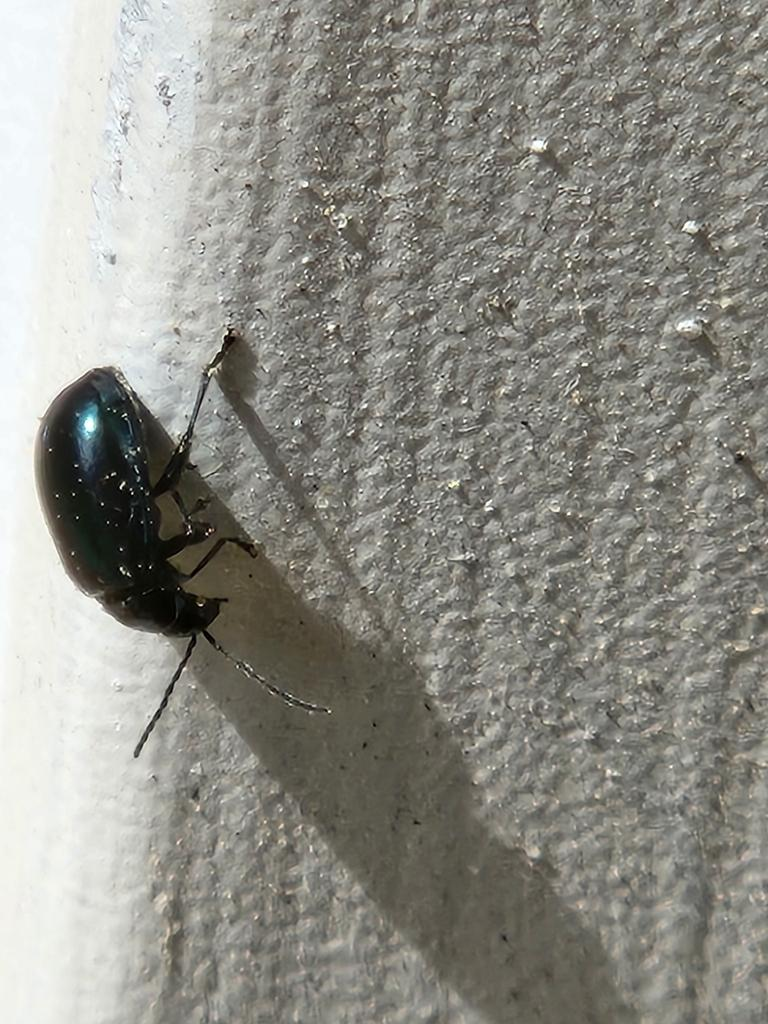flea_beetle: (0, 295, 411, 819)
